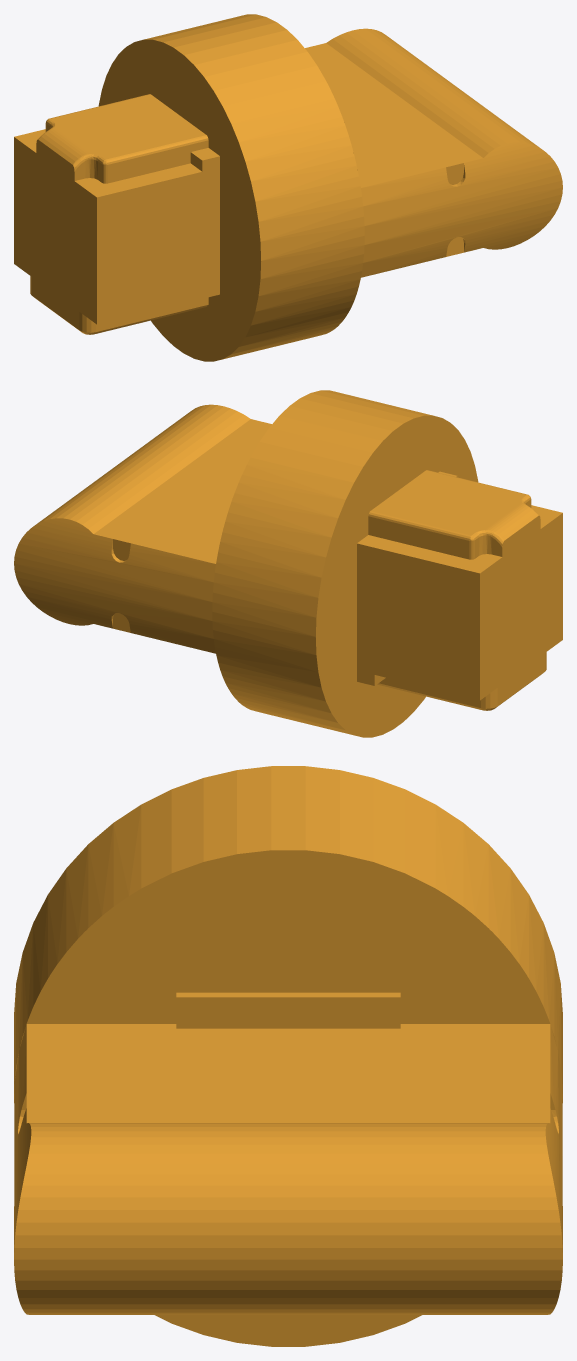
Rendered from yaw_motor_link2.dae.
3 renders of one model, top to bottom at view 1: azimuth 30°, elevation 25°; view 2: azimuth 150°, elevation 25°; view 3: azimuth 270°, elevation 25°, orthographic. The views are drawn at different scales.
Parts seen in each view (by area): view 1: _0link_V22_TAIL; view 2: _0link_V22_TAIL; view 3: _0link_V22_TAIL.
Part boxes in pixels (<box>): _0link_V22_TAIL: <box>14,14,562,361</box>; _0link_V22_TAIL: <box>14,390,562,737</box>; _0link_V22_TAIL: <box>14,766,562,1346</box>.
Bounding box in the file's own units: 0.119 × 0.08 × 0.0798.
